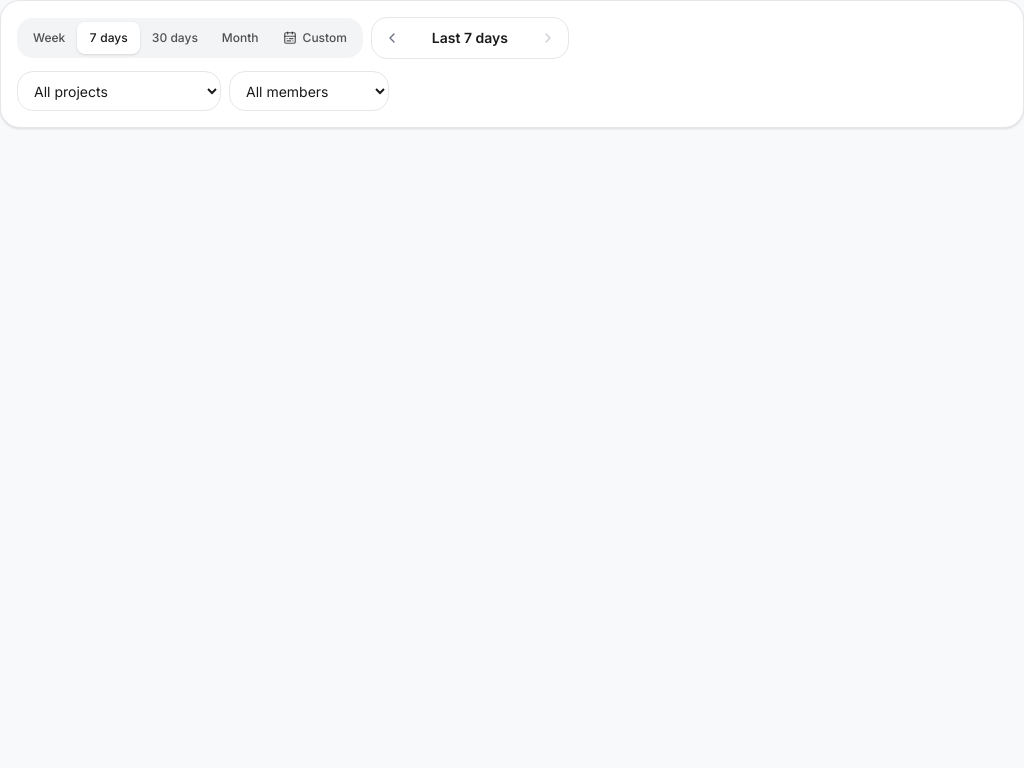
Scenario: PeriodToolbar — custom range › starts from the report's suggestion (e.g. the current period) when no custom range is applied
What coordinates should you click on to do the following:
click the button "Custom"
I would click on:
 (315, 38)
Its box is [271,22,359,54].
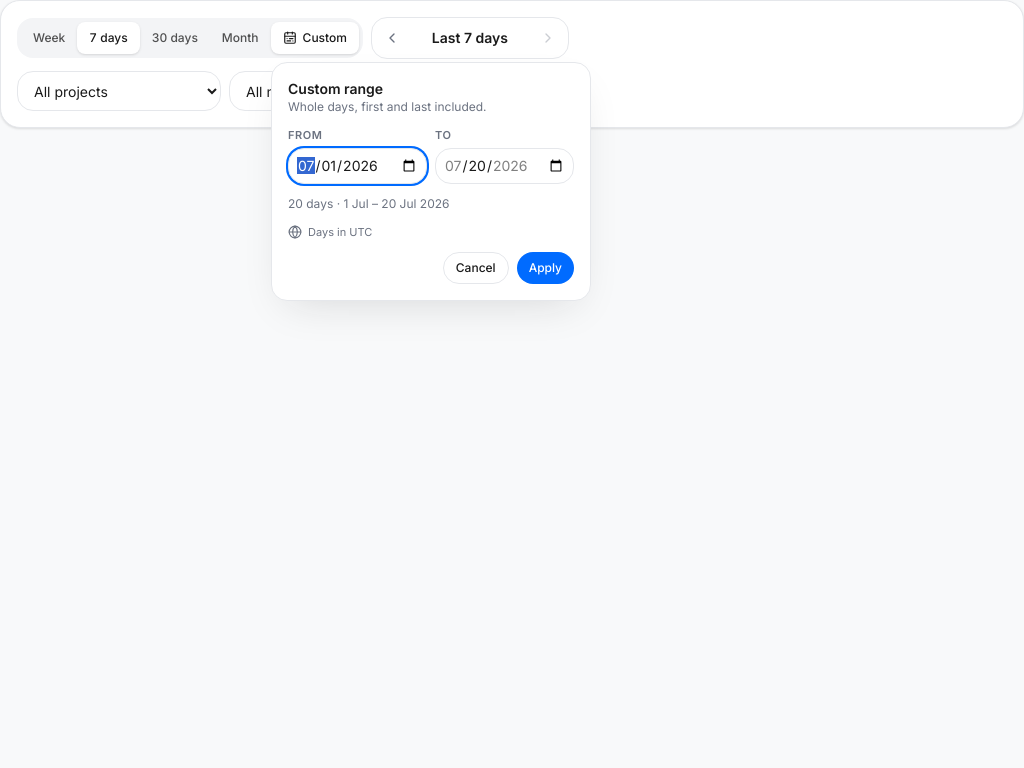
Expected: the date field labelled "From" holds "2026-07-01", [288,148,427,184]
Expected: the date field labelled "To" holds "2026-07-20", [435,148,574,184]
